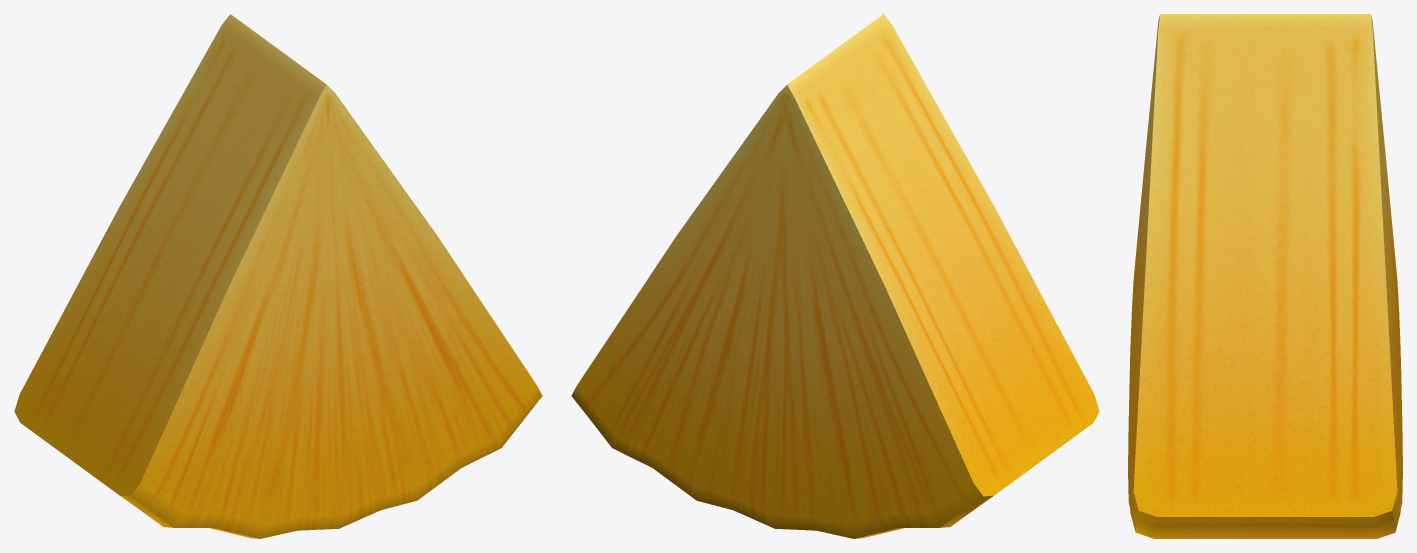
Rendered from PineappleSlice_1.fbx.
3 views of the same model, side by side, from view 1: azimuth 30°, elevation 25°; view 2: azimuth 150°, elevation 25°; view 3: azimuth 270°, elevation 25° (orthographic). The views are drawn at different scales.
Visible parts, largest first — view 1: PineappleSlice_1; view 2: PineappleSlice_1; view 3: PineappleSlice_1.
Boxes of the visible parts, bbox=[...] form: PineappleSlice_1: bbox=[14, 14, 542, 538]; PineappleSlice_1: bbox=[571, 14, 1099, 538]; PineappleSlice_1: bbox=[1128, 14, 1402, 538].
Size of the model in its own units: 0.0438 by 0.0441 by 0.0229.
1 material, 1 textured.
